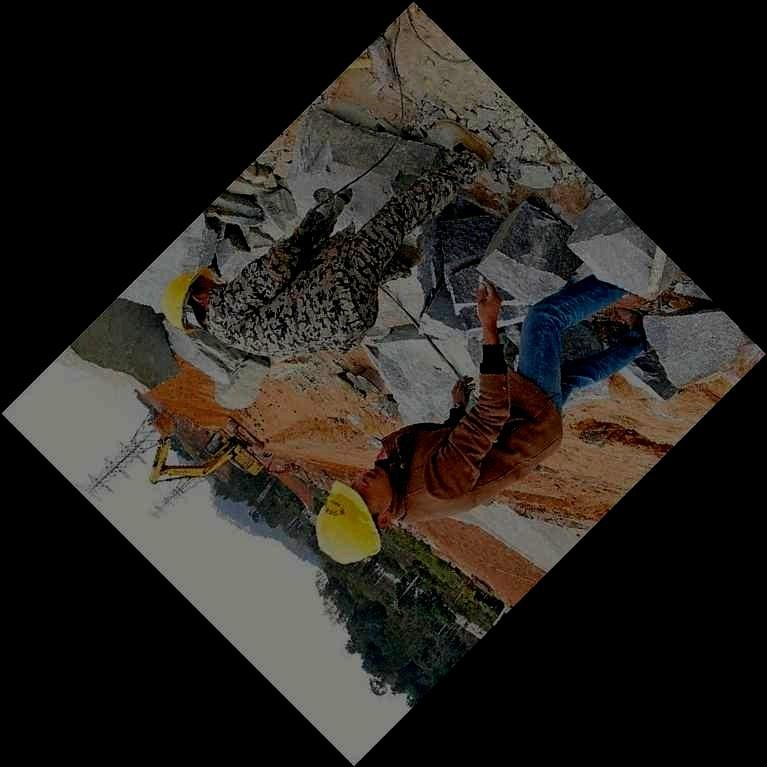helmet: (315, 467, 395, 564), (160, 265, 219, 336)
